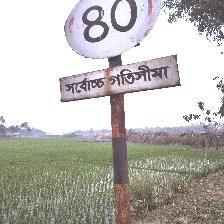Speed-limit: (61, 0, 172, 102)
